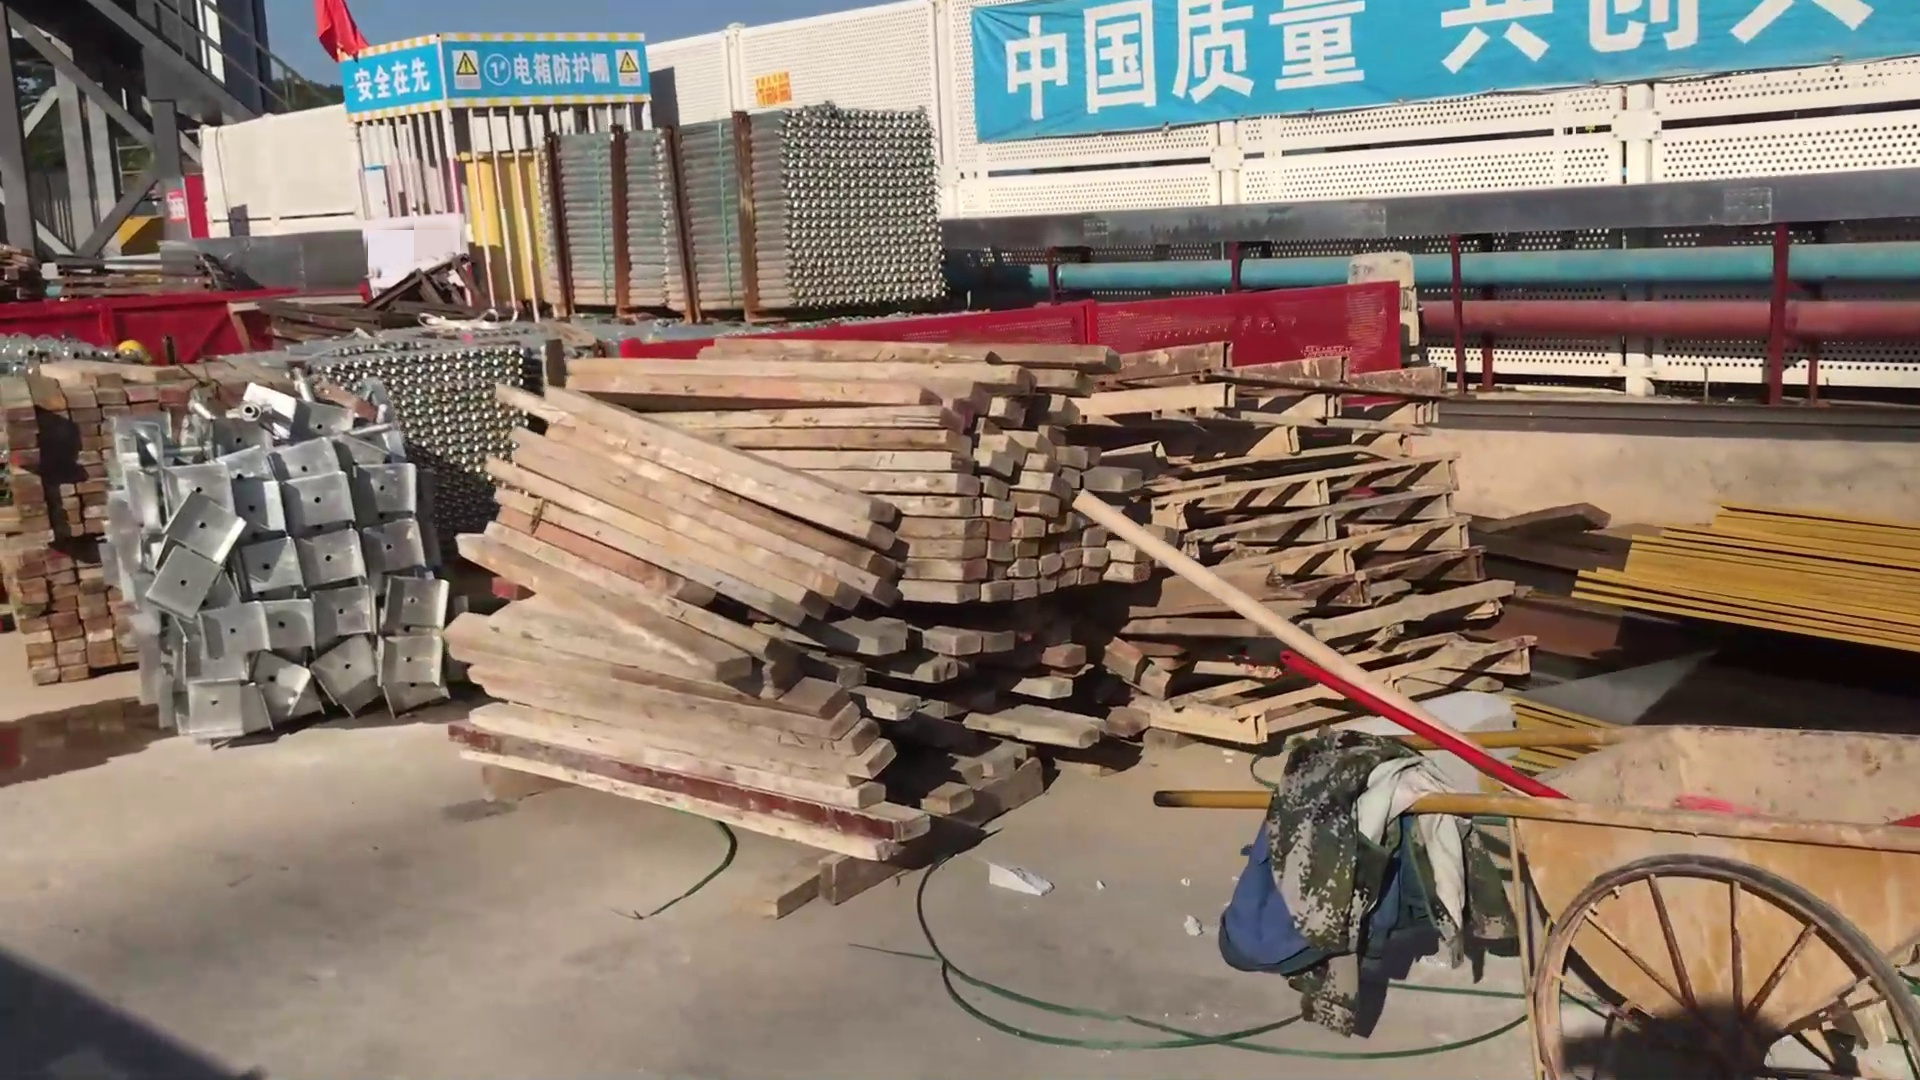board: (1561, 462, 1920, 649)
fence: (967, 280, 1404, 367)
handcart: (1447, 716, 1909, 1080)
scaffold: (541, 116, 945, 306), (315, 349, 525, 479)
slogan: (975, 3, 1920, 99), (347, 37, 440, 100)
wood: (469, 343, 1174, 862), (4, 356, 127, 679)
